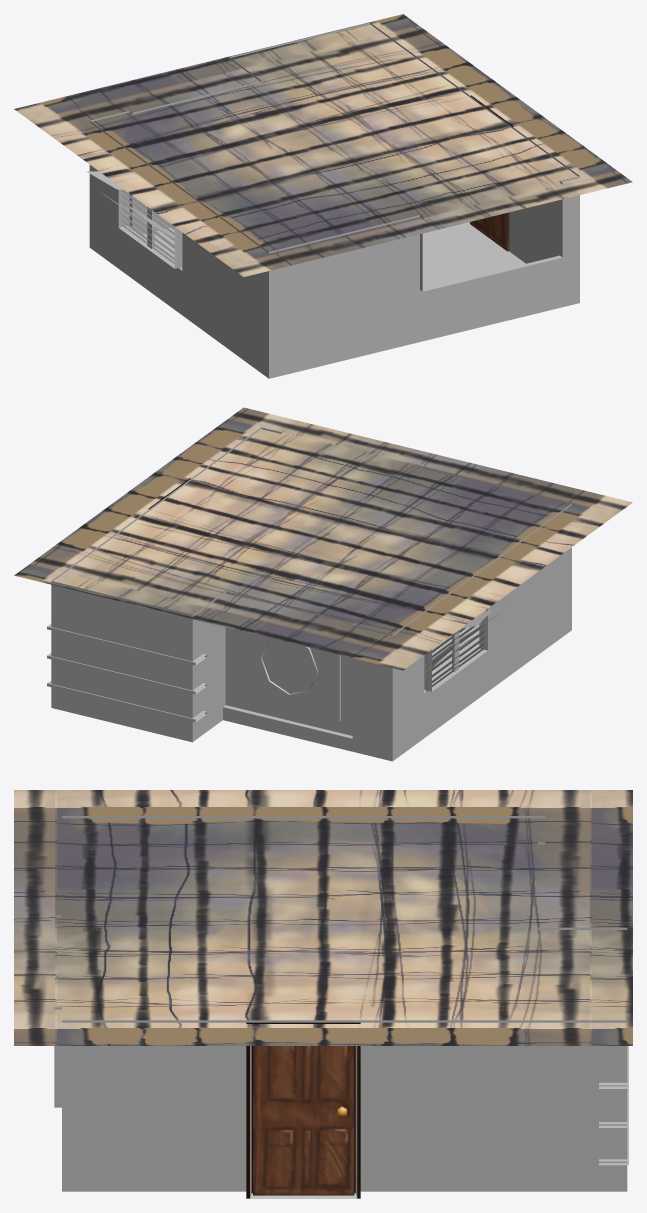
File: Office.fbx
The picture shows the model from 3 angles, top to bottom: view 1: azimuth 30°, elevation 25°; view 2: azimuth 150°, elevation 25°; view 3: azimuth 270°, elevation 25°; orthographic projection. The views are drawn at different scales.
Parts seen in each view (by area): view 1: Cube.007, Cube.001, Door, Plane.004; view 2: Cube.007, Cube.001; view 3: Cube.007, Cube.001, Door.
Part boxes in pixels (<box>): Cube.007: <box>14,14,632,276</box>; Cube.001: <box>89,22,579,378</box>; Door: <box>470,95,513,251</box>; Plane.004: <box>86,171,174,248</box>; Cube.007: <box>14,407,632,670</box>; Cube.001: <box>47,427,571,761</box>; Cube.007: <box>14,790,632,1045</box>; Cube.001: <box>54,816,628,1198</box>; Door: <box>246,1022,360,1198</box>.
Bounding box in the file's own units: 1376 × 480 × 1401.
